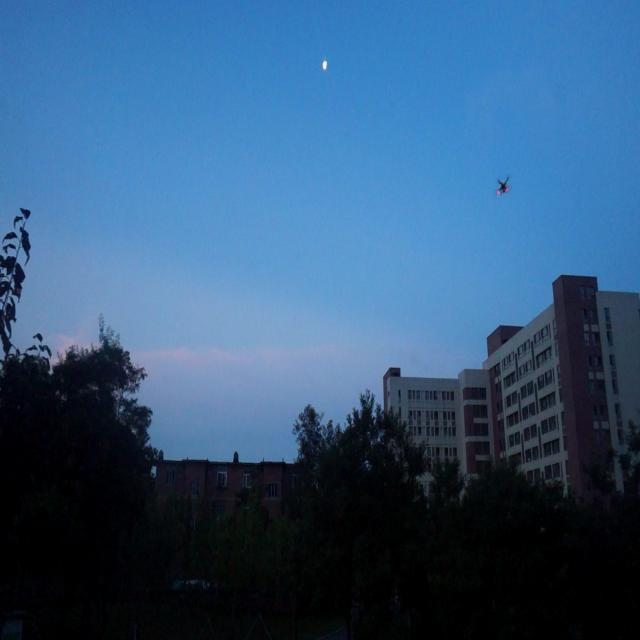drone: (493, 172, 512, 200)
